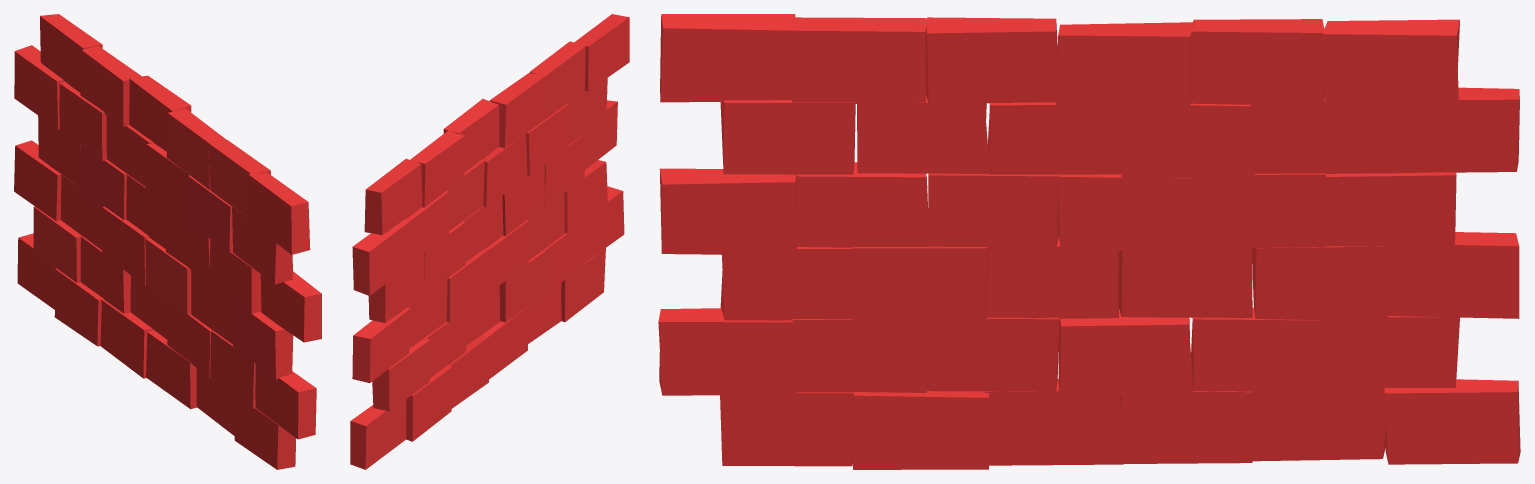
Rendered from Blank Wall.fbx.
3 views of the same model, side by side, from view 1: azimuth 30°, elevation 25°; view 2: azimuth 150°, elevation 25°; view 3: azimuth 270°, elevation 25° (orthographic). The views are drawn at different scales.
Parts seen in each view (by area): view 1: Cube.023, Cube.011, Cube.035, Cube.019, Cube.012, Cube.021, Cube.020, Cube, Cube.027, Cube.018, Cube.022, Cube.015 (+24 smaller); view 2: Cube.020, Cube.027, Cube.015, Cube.003, Cube.021, Cube.023, Cube.019, Cube.008, Cube.022, Cube.018, Cube.004, Cube.032 (+24 smaller); view 3: Cube.020, Cube.022, Cube.023, Cube.018, Cube.019, Cube.035, Cube.021, Cube.011, Cube.003, Cube.001, Cube.006, Cube.015 (+24 smaller).
Part boxes in pixels (x1,y1,x2,y2): Cube.023: (247, 173, 310, 254); Cube.011: (255, 364, 316, 439); Cube.035: (260, 271, 321, 342); Cube.019: (80, 46, 142, 126); Cube.012: (233, 301, 293, 379); Cube.021: (166, 108, 226, 190); Cube.020: (40, 14, 102, 92); Cube: (234, 395, 296, 469); Cube.027: (14, 45, 64, 129); Cube.018: (129, 75, 191, 151); Cube.022: (209, 140, 270, 216); Cube.015: (14, 140, 61, 221); Cube.020: (364, 158, 422, 235); Cube.027: (352, 220, 410, 295); Cube.015: (352, 307, 410, 382); Cube.003: (350, 399, 406, 469); Cube.021: (489, 73, 546, 148); Cube.023: (574, 14, 629, 91); Cube.019: (410, 129, 464, 207); Cube.008: (372, 339, 430, 411); Cube.022: (529, 41, 585, 117); Cube.018: (443, 99, 499, 172); Cube.004: (406, 365, 452, 441); Cube.032: (368, 254, 424, 322); Cube.020: (1322, 19, 1459, 107); Cube.022: (791, 17, 927, 103); Cube.023: (660, 14, 795, 102); Cube.018: (1056, 22, 1194, 108); Cube.019: (1189, 19, 1325, 105); Cube.035: (659, 168, 796, 255); Cube.021: (925, 17, 1057, 103); Cube.011: (658, 308, 796, 395); Cube.003: (1384, 379, 1520, 464); Cube.001: (853, 391, 989, 469); Cube.006: (1058, 311, 1193, 397); Cube.015: (1386, 232, 1519, 318).
Bounding box in the file's own units: 113 × 907 × 1625.
